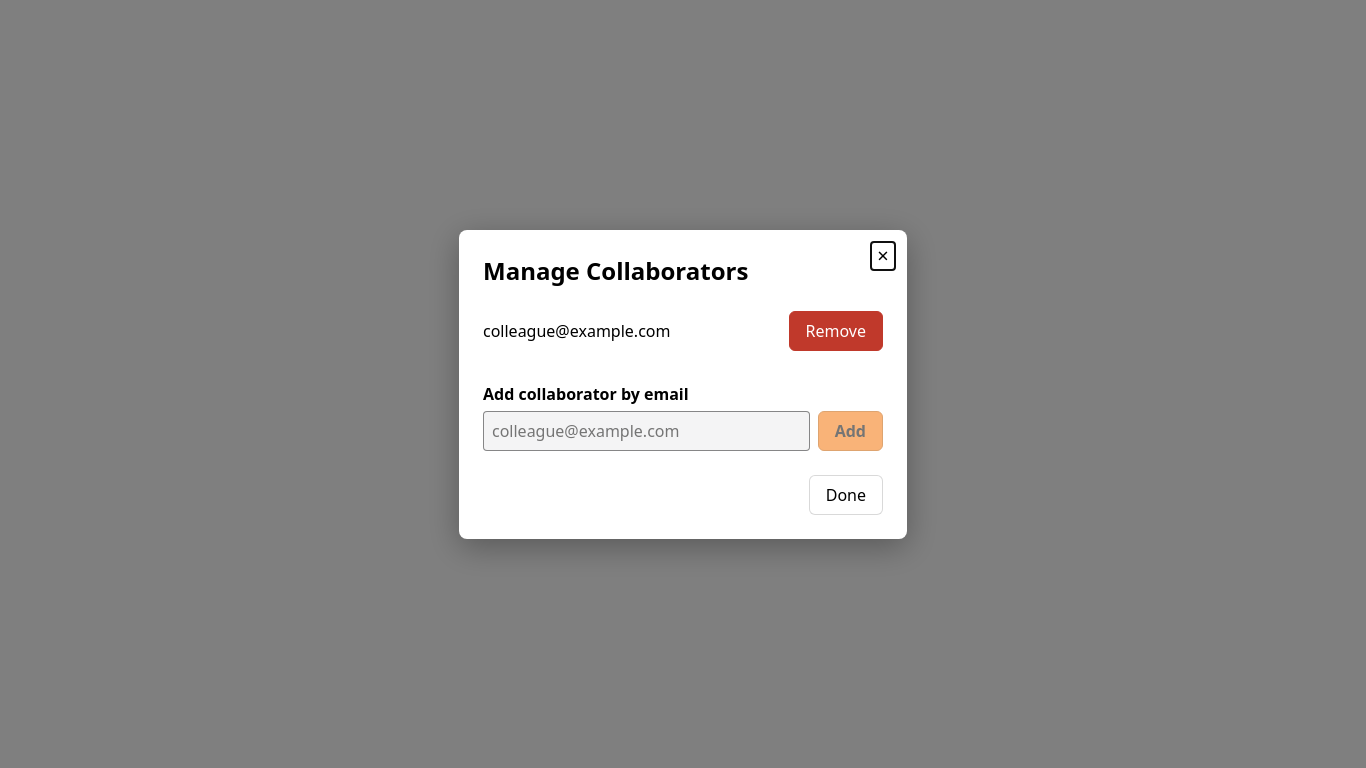
CollaboratorsModal › removes a collaborator and reloads the list
Click the button "Remove". click: coordinates (836, 330)
box: left=788, top=310, right=883, bottom=350
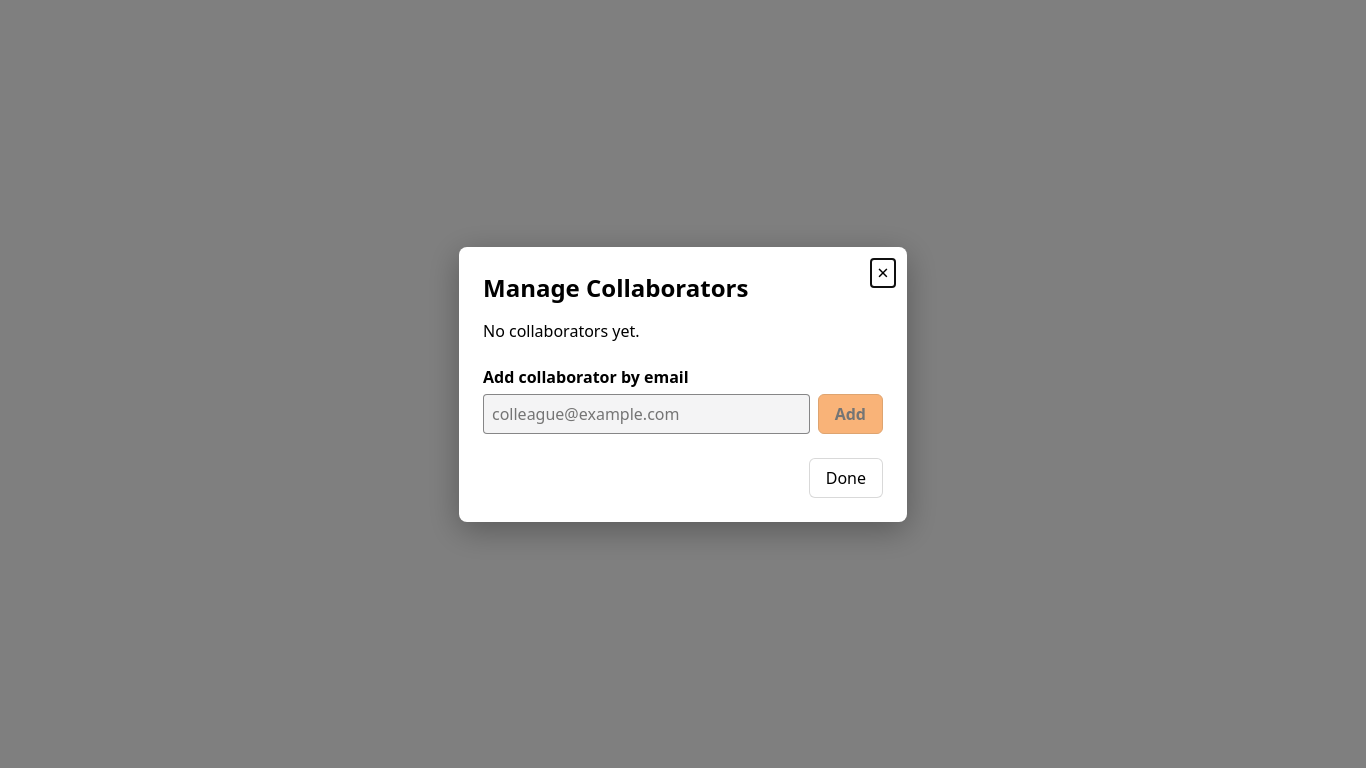
Result: the text "No collaborators yet." is shown at left=483, top=320, right=640, bottom=342
